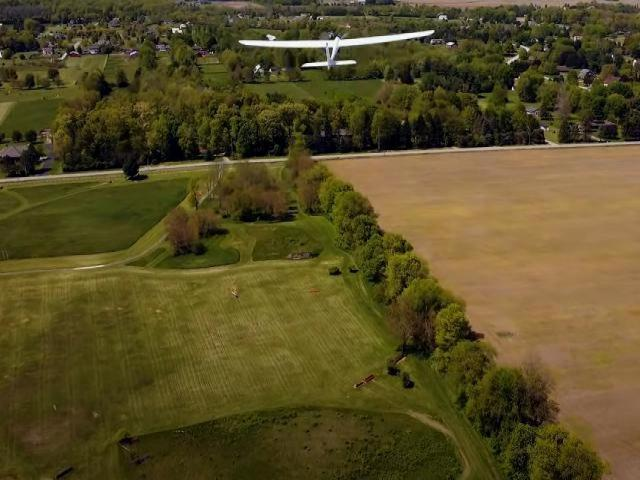iha: (224, 23, 435, 71)
